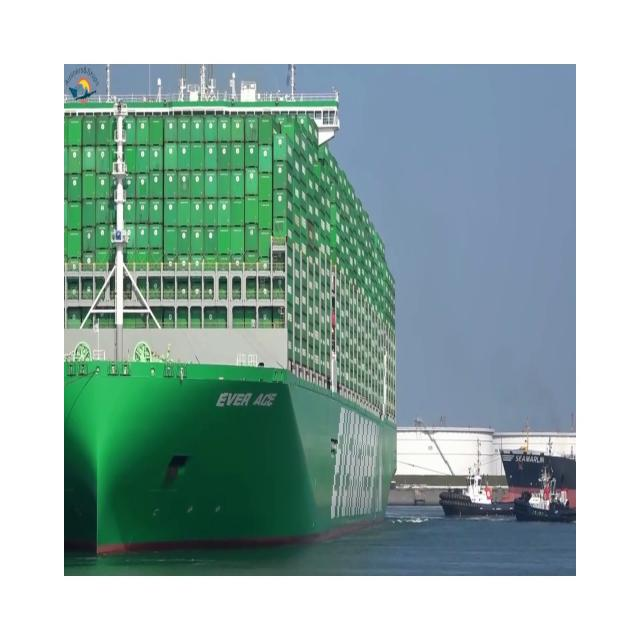OCR: (331, 396, 387, 526), (212, 383, 282, 428)
